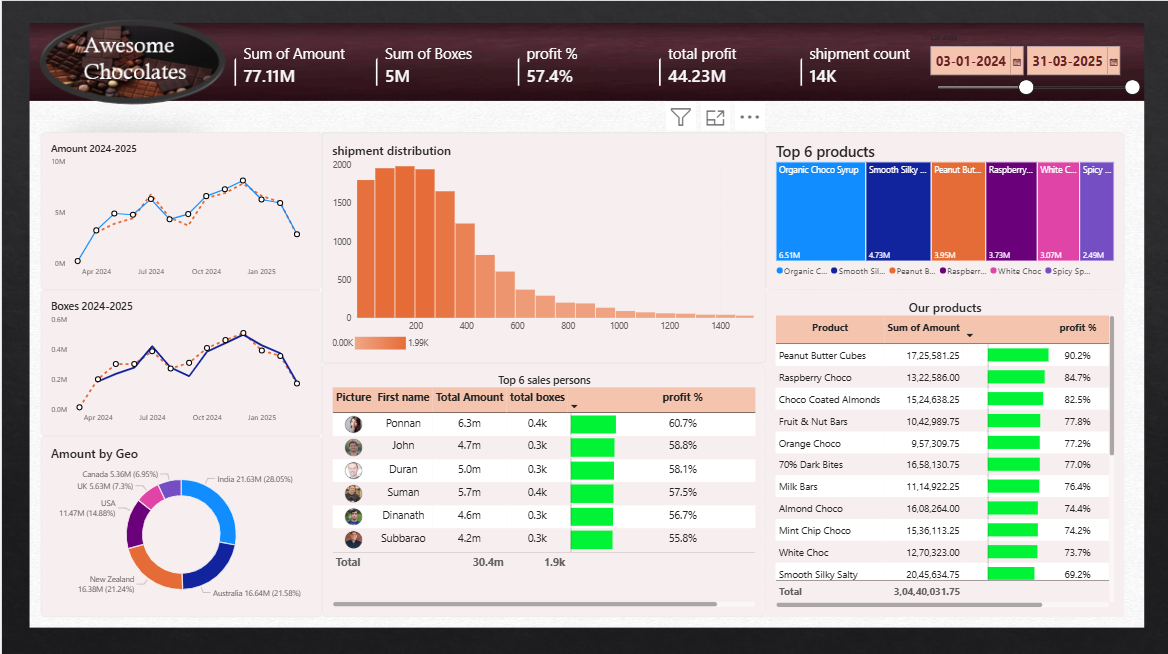

The page's visual inventory and layout, read from the dashboard file:
{"tool":"powerbi","page":{"name":"Final dash board","canvas":[1920,1080],"ordinal":0},"visuals":[{"type":"lineChart","title":"Amount 2024-2025","fields":{"Y":["Sum(shipments.Amount)","shipments.Total amount (last year)"],"Category":["calendar.Start of Month"]},"box":[63.8,216.1,463.1,259.3],"z":0},{"type":"lineChart","title":"Boxes 2024-2025","fields":{"Category":["calendar.Start of Month"],"Y":["shipments.Total boxes (last year)","shipments.total boxes"]},"box":[63.8,475.5,463.1,240.8],"z":1000},{"type":"donutChart","title":"Amount by Geo","fields":{"Category":["locations.Geo"],"Y":["shipments.Total Amount"]},"box":[63.8,716.3,463.1,298.5],"z":2000},{"type":"clusteredColumnChart","title":"shipment distribution","fields":{"Category":["shipments.Boxes (bins)"],"Y":["shipments.shipment count"]},"box":[526.9,216.1,730.7,380.8],"z":3000},{"type":"tableEx","title":"          Top 6 sales persons","fields":{"Values":["people.Picture","people.First name","shipments.Total Amount","shipments.total boxes","shipments.profit %"]},"box":[526.9,596.9,730.7,417.8],"z":4000},{"type":"treemap","title":"Top 6 products","fields":{"Values":["Sum(shipments.Amount)"],"Group":["products.Product"]},"box":[1257.6,216.1,590.7,259.3],"z":5000},{"type":"tableEx","title":"Our products","fields":{"Values":["products.Product","Sum(shipments.Amount)","shipments.profit %"]},"box":[1257.6,475.5,590.7,539.3],"z":6000},{"type":"cardVisual","fields":{"Data":["Sum(shipments.Amount)","Sum(shipments.Boxes)","shipments.profit %","shipments.total profit","shipments.shipment count"]},"box":[370.5,59.7,1183.5,92.6],"z":7000},{"type":"slicer","fields":{"Values":["calendar.cal_date"]},"box":[1521.1,51.5,356.1,109.1],"z":8000}]}

Visuals, with their boxes in screenshot pixels (x1, y1, x2, y2), scaled from the page's 1920x1080 canvas onto the 1168x654 screenshot:
"Amount 2024-2025" lineChart: 39/131/321/288
"Boxes 2024-2025" lineChart: 39/288/321/434
"Amount by Geo" donutChart: 39/434/321/615
"shipment distribution" clusteredColumnChart: 321/131/765/361
"          Top 6 sales persons" tableEx: 321/361/765/614
"Top 6 products" treemap: 765/131/1124/288
"Our products" tableEx: 765/288/1124/615
cardVisual - Sum(shipments.Amount) x Sum(shipments.Boxes): 225/36/945/92
slicer - calendar.cal_date: 925/31/1142/97
